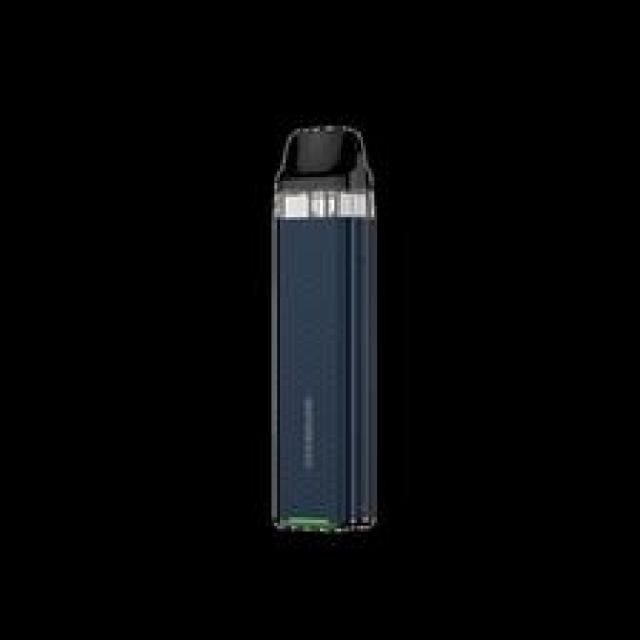Vapes: (266, 120, 380, 537)
